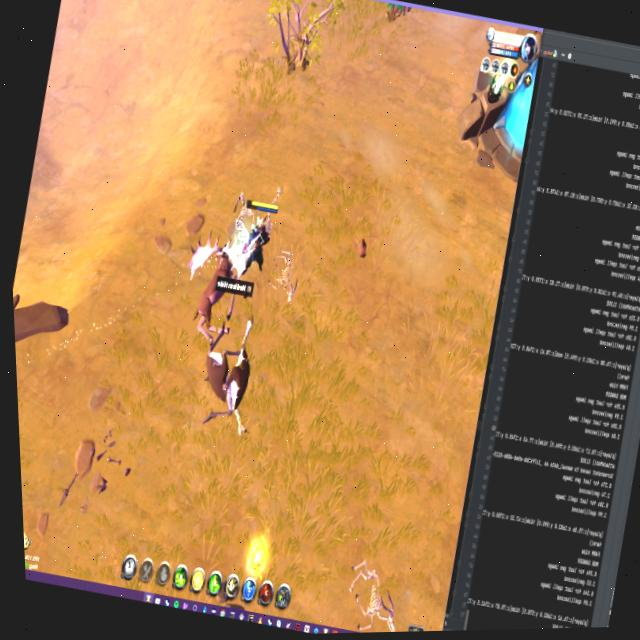mob: (185, 305, 269, 441), (178, 232, 255, 347)
red: (238, 198, 280, 270)
